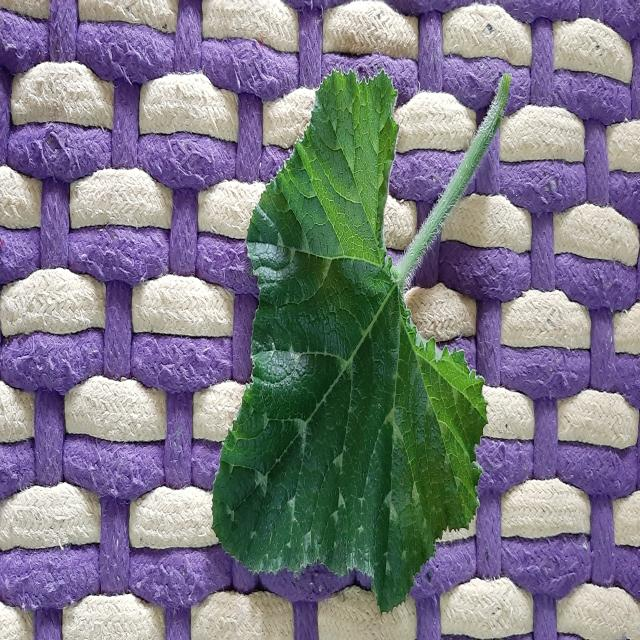pumpkin: (212, 73, 510, 610)
